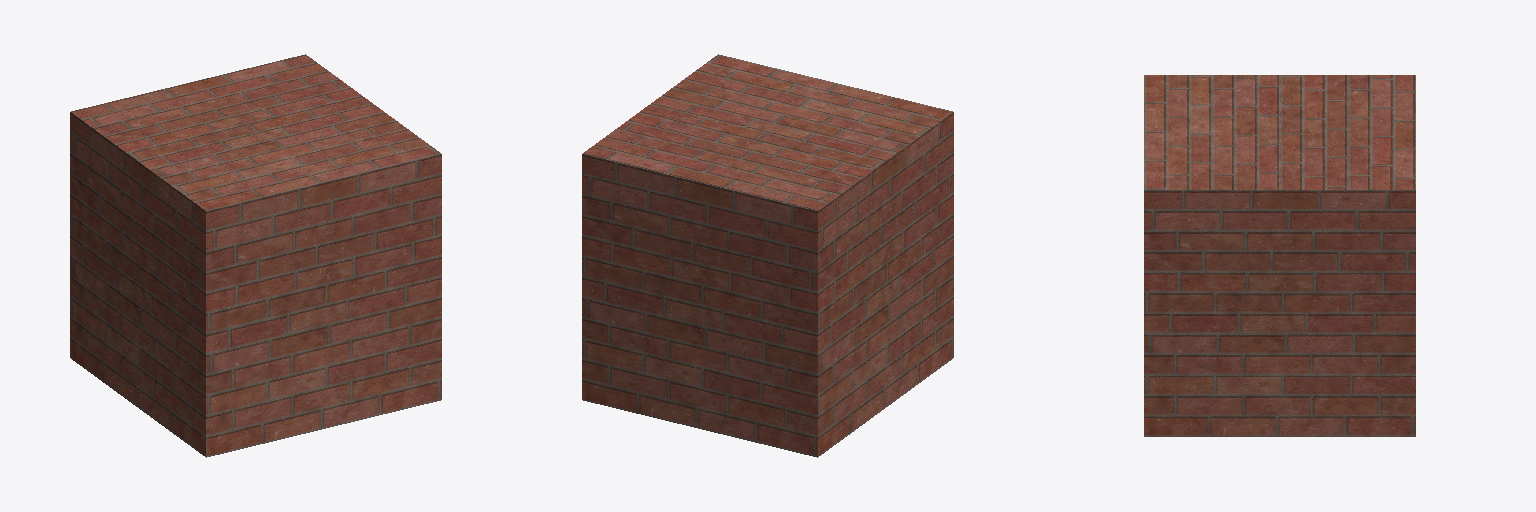
The picture shows the model from 3 angles: view 1: azimuth 30°, elevation 25°; view 2: azimuth 150°, elevation 25°; view 3: azimuth 270°, elevation 25°; orthographic projection.
Visible parts, largest first — view 1: cube; view 2: cube; view 3: cube.
Boxes of the visible parts, box(x1,y1,x2,y2) form: cube: box(70, 54, 441, 457); cube: box(582, 54, 953, 457); cube: box(1144, 75, 1415, 436).
Bounding box in the file's own units: 1 × 1 × 1.
1 materials, 1 textured.